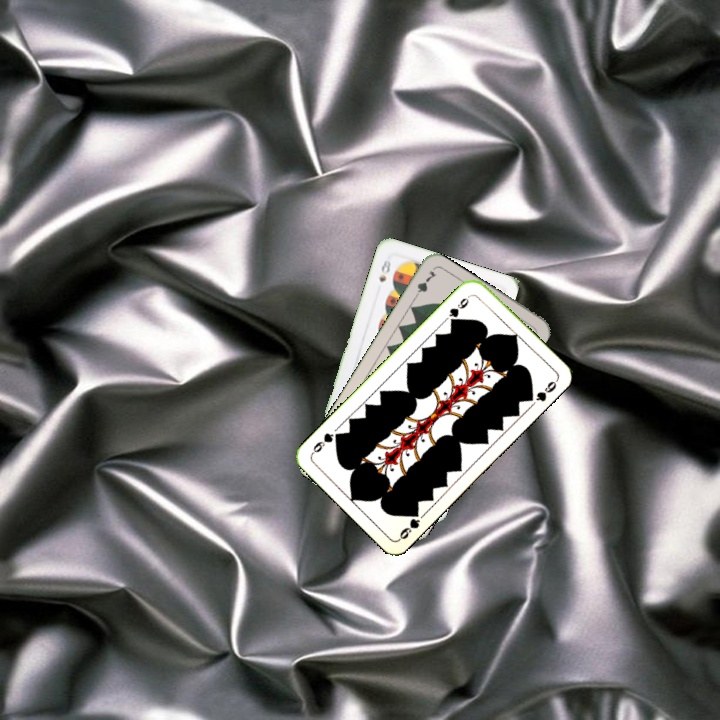G7: (409, 267, 439, 303)
G9: (395, 505, 423, 542), (445, 291, 474, 326)
S8: (375, 256, 394, 284)
